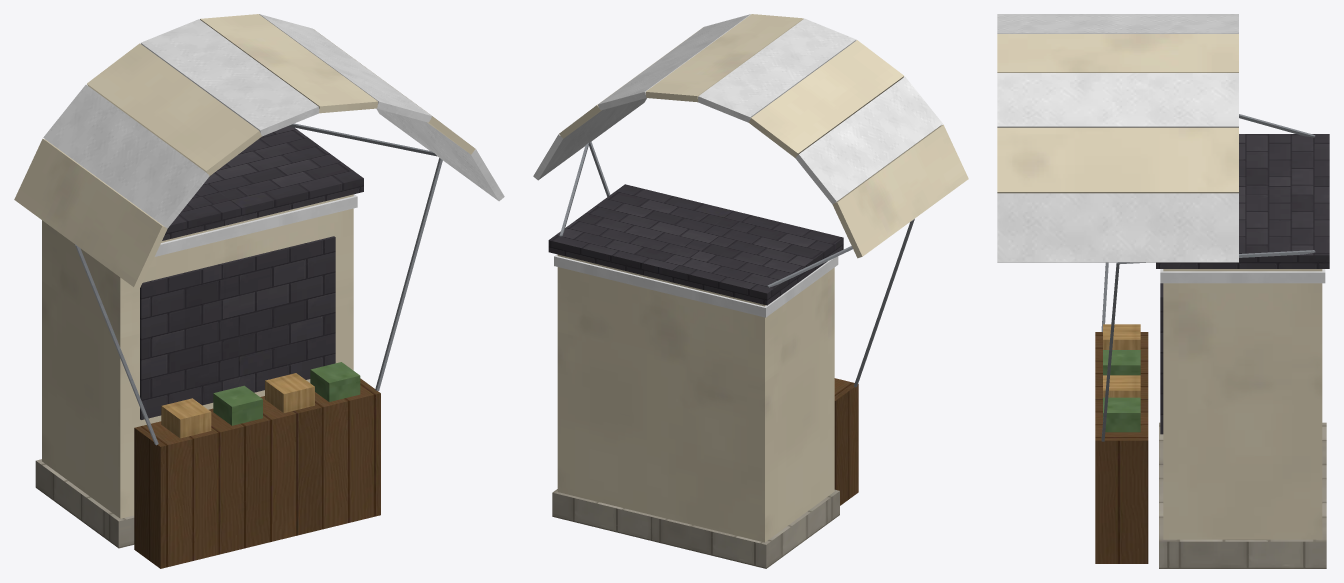
File: protocol.paraswap.glb
The picture shows the model from 3 angles, left to right: view 1: azimuth 30°, elevation 25°; view 2: azimuth 150°, elevation 25°; view 3: azimuth 270°, elevation 25°; orthographic projection. The views are drawn at different scales.
Parts seen in each view (by area): view 1: building.protocol.paraswap; view 2: building.protocol.paraswap; view 3: building.protocol.paraswap.
Boxes of the visible parts, left/top/right/bottom form: building.protocol.paraswap: left=14, top=14, right=504, bottom=568; building.protocol.paraswap: left=533, top=14, right=968, bottom=568; building.protocol.paraswap: left=997, top=14, right=1329, bottom=568.
Size of the model in its own units: 2.86 by 3.47 by 2.2.
Materials: 9 (9 with a texture image).
